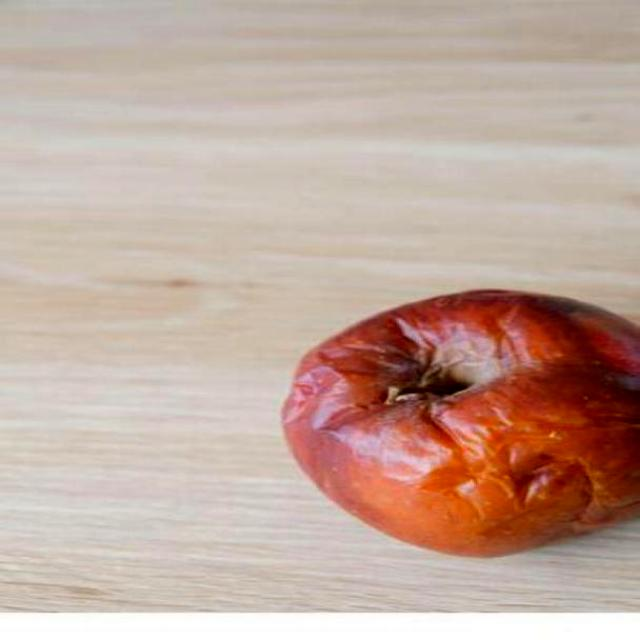ROT: (246, 257, 640, 563)
